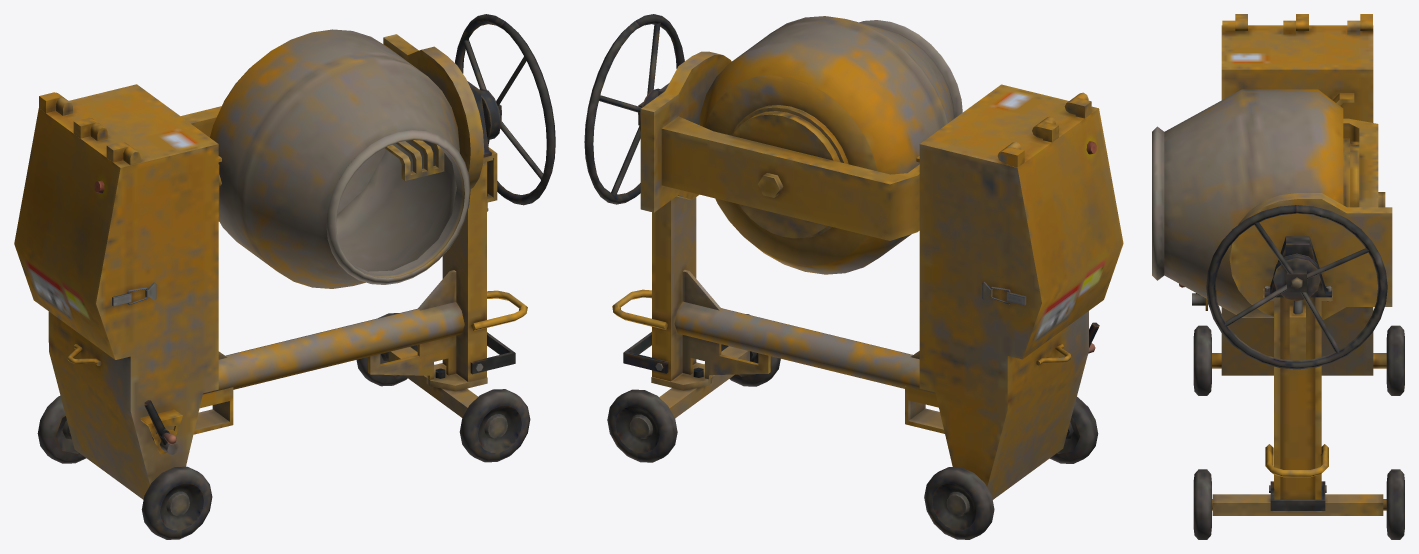
The model's file is sm22_068_concretemixera.fbx.
3 renders of one model, left to right at view 1: azimuth 30°, elevation 25°; view 2: azimuth 150°, elevation 25°; view 3: azimuth 270°, elevation 25°, orthographic. The views are drawn at different scales.
Visible parts, largest first — view 1: LOD_1_Group_0_Sub_1__sm22_068_concretemixerA_A_Mat; view 2: LOD_1_Group_0_Sub_1__sm22_068_concretemixerA_A_Mat; view 3: LOD_1_Group_0_Sub_1__sm22_068_concretemixerA_A_Mat.
Part boxes in pixels (<box>): LOD_1_Group_0_Sub_1__sm22_068_concretemixerA_A_Mat: <box>14,14,555,539</box>; LOD_1_Group_0_Sub_1__sm22_068_concretemixerA_A_Mat: <box>584,14,1123,539</box>; LOD_1_Group_0_Sub_1__sm22_068_concretemixerA_A_Mat: <box>1152,14,1404,539</box>.
Size of the model in its own units: 1.49 by 1.27 by 0.7594.
